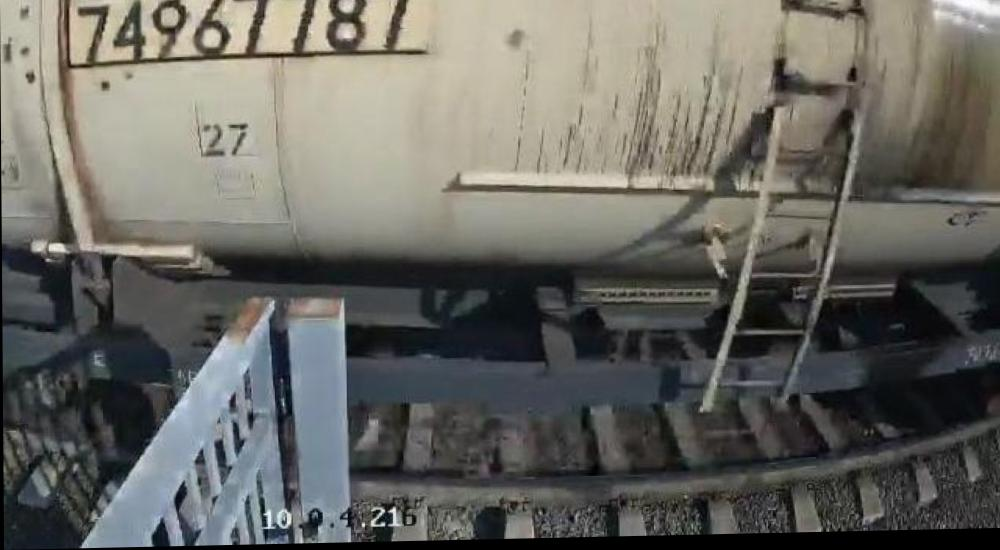Wagon-number: (70, 0, 424, 62)
